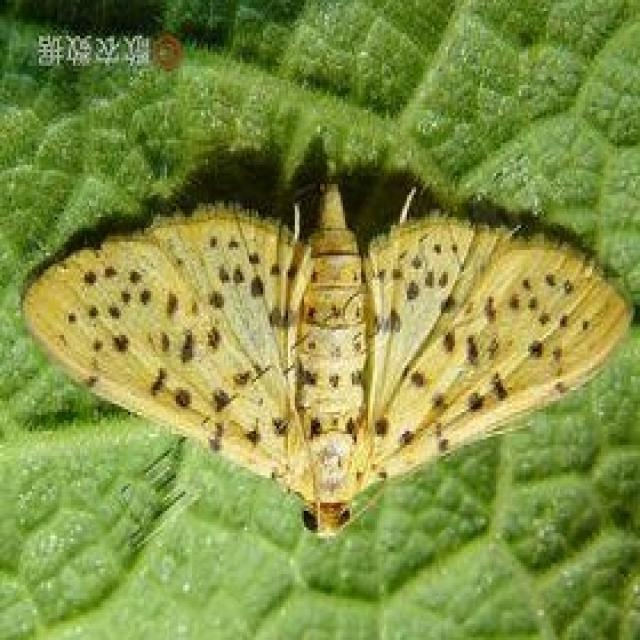peach borer: (10, 170, 637, 541)
